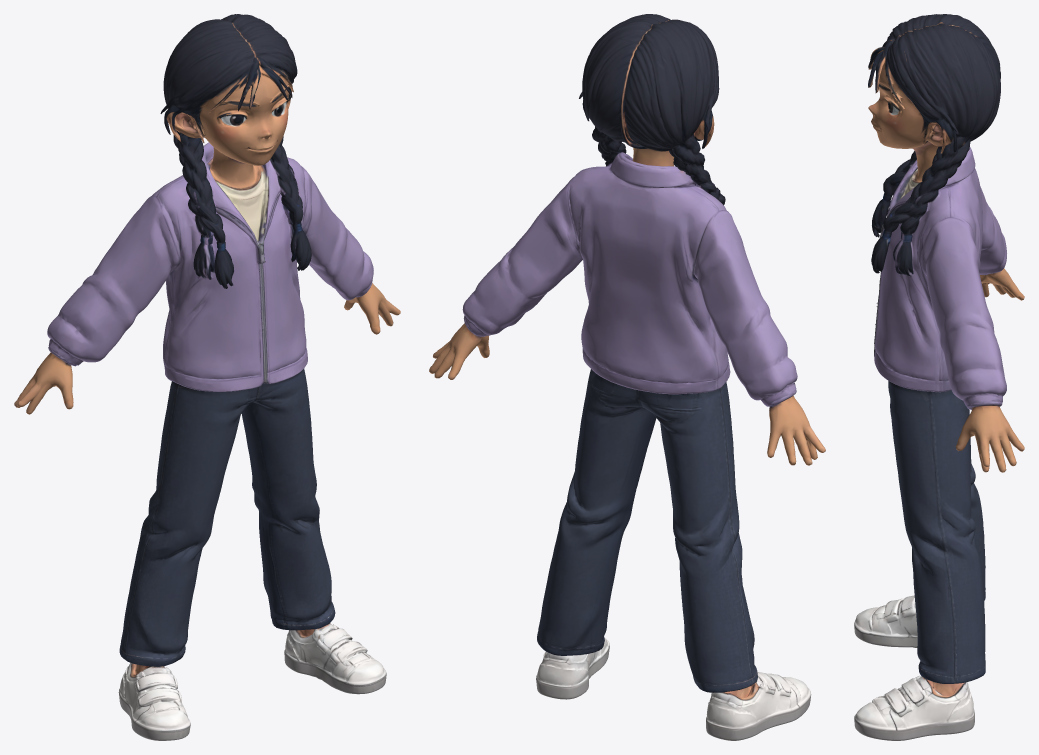
File: haneul_front.glb
3 views of the same model, side by side, from view 1: azimuth 30°, elevation 25°; view 2: azimuth 150°, elevation 25°; view 3: azimuth 270°, elevation 25° (orthographic). The views are drawn at different scales.
Visible parts, largest first — view 1: tripo_node_2d81c43c-ff09-4f72-8b2c-c32558fe705e; view 2: tripo_node_2d81c43c-ff09-4f72-8b2c-c32558fe705e; view 3: tripo_node_2d81c43c-ff09-4f72-8b2c-c32558fe705e.
Part boxes in pixels (x1=…): tripo_node_2d81c43c-ff09-4f72-8b2c-c32558fe705e: x1=14, y1=14, x2=400, y2=740; tripo_node_2d81c43c-ff09-4f72-8b2c-c32558fe705e: x1=429, y1=14, x2=825, y2=740; tripo_node_2d81c43c-ff09-4f72-8b2c-c32558fe705e: x1=854, y1=14, x2=1024, y2=740.
Bounding box in the file's own units: 0.8507 × 1.42 × 0.3311.
Materials: 1 (1 with a texture image).
